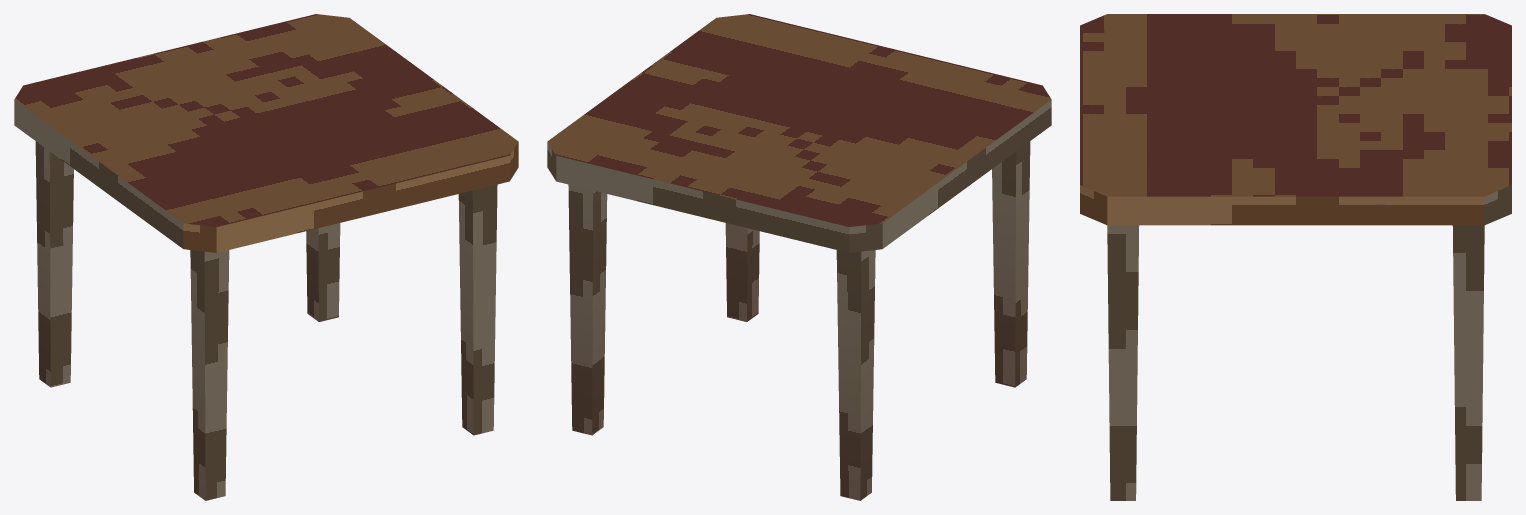
The model's file is wprop.table__square.glb.
3 renders of one model, left to right at view 1: azimuth 30°, elevation 25°; view 2: azimuth 150°, elevation 25°; view 3: azimuth 270°, elevation 25°, orthographic. The views are drawn at different scales.
Visible parts, largest first — view 1: kit_top, kit_legs; view 2: kit_top, kit_legs; view 3: kit_top, kit_legs.
Boxes of the visible parts, x1,y1,x2,y2 form: kit_top: (14,14,518,252); kit_legs: (35,141,497,500); kit_top: (547,14,1051,252); kit_legs: (568,141,1030,500); kit_top: (1080,14,1511,225); kit_legs: (1107,225,1484,500).
Bounding box in the file's own units: 0.95 × 0.77 × 0.95.
Materials: 2 (2 with a texture image).
